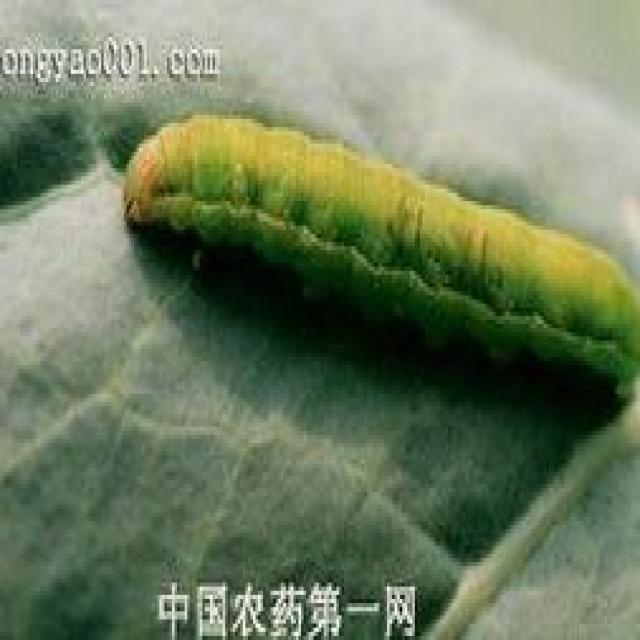BeetArmyWorm-Larva-: (113, 103, 637, 400)
